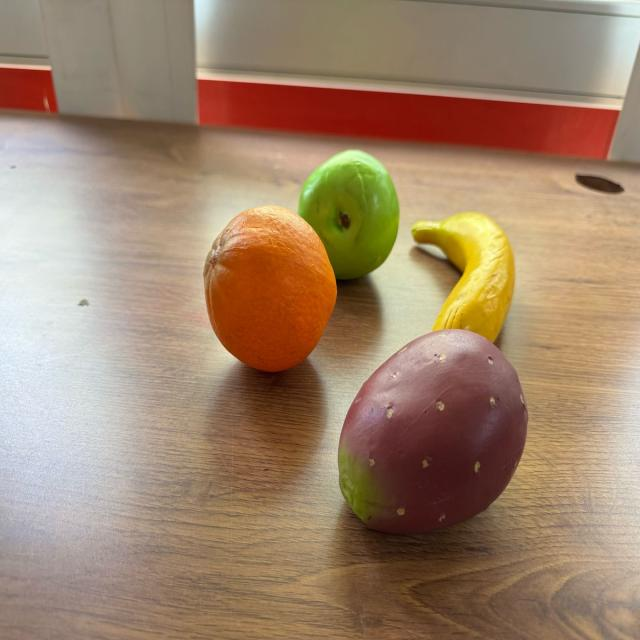banana: (411, 210, 516, 352)
orange: (202, 205, 336, 372)
pear: (298, 147, 397, 277)
tuna: (339, 330, 528, 531)
